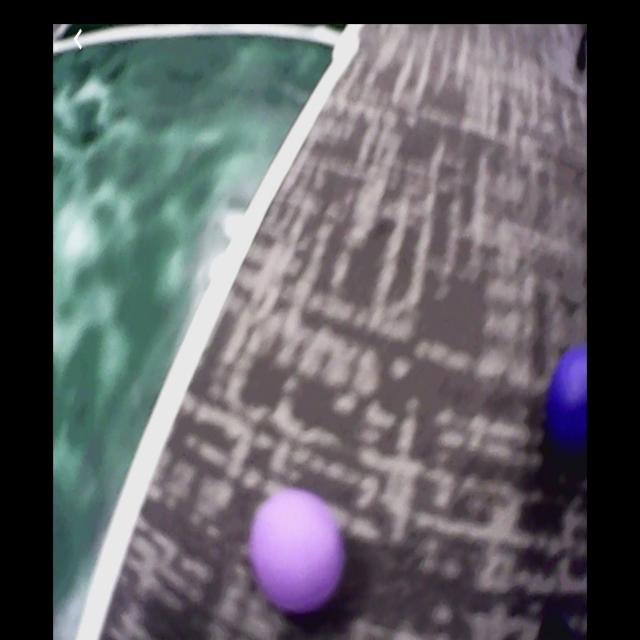ball: (254, 494, 343, 611), (548, 347, 587, 448)
